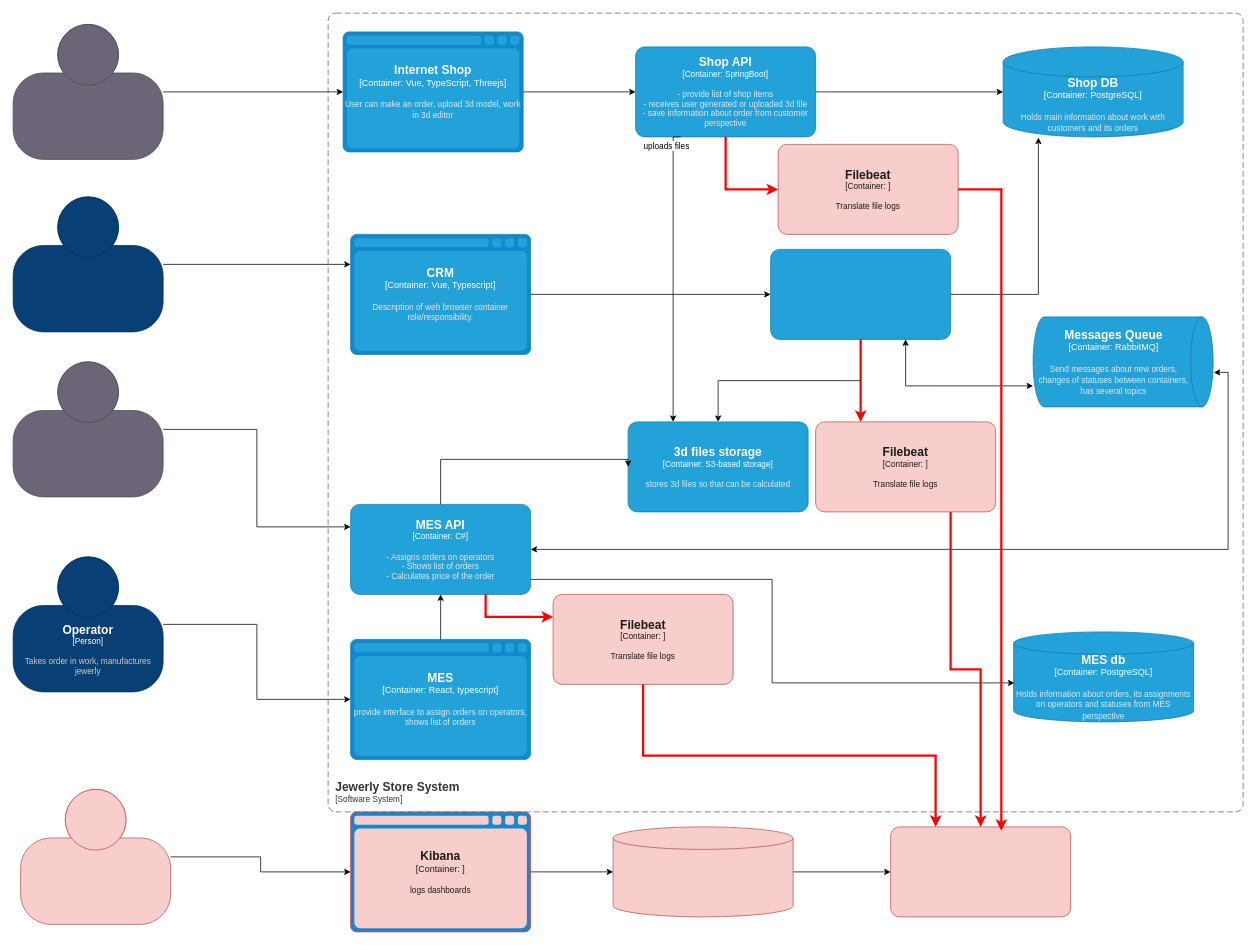
Image size: 1256x945. Some labels were removed from this diagram. Here are the shapes that lost their labels. From the top down, the centre of each, then its label:
point 87,91: Customer [Person] Description of external person.
point 87,264: Seller [Person] Operates with order, confirms manufacturing for the user
point 860,294: CRM API [Container: SpringBoot] Description of container role/responsibility.
point 87,429: API user [Person] Description of external person.
point 95,856: SRE, DevOps [Person] internal user
point 702,871: ElasticSearch [Container: ] logs database
point 980,871: Logstash [Container: ] Collect logs
